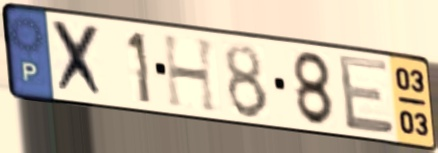1: (124, 28, 155, 105)
8: (222, 40, 272, 121), (290, 49, 338, 130)
E: (335, 51, 398, 137)
H: (159, 32, 221, 116)
X: (49, 16, 109, 103)
